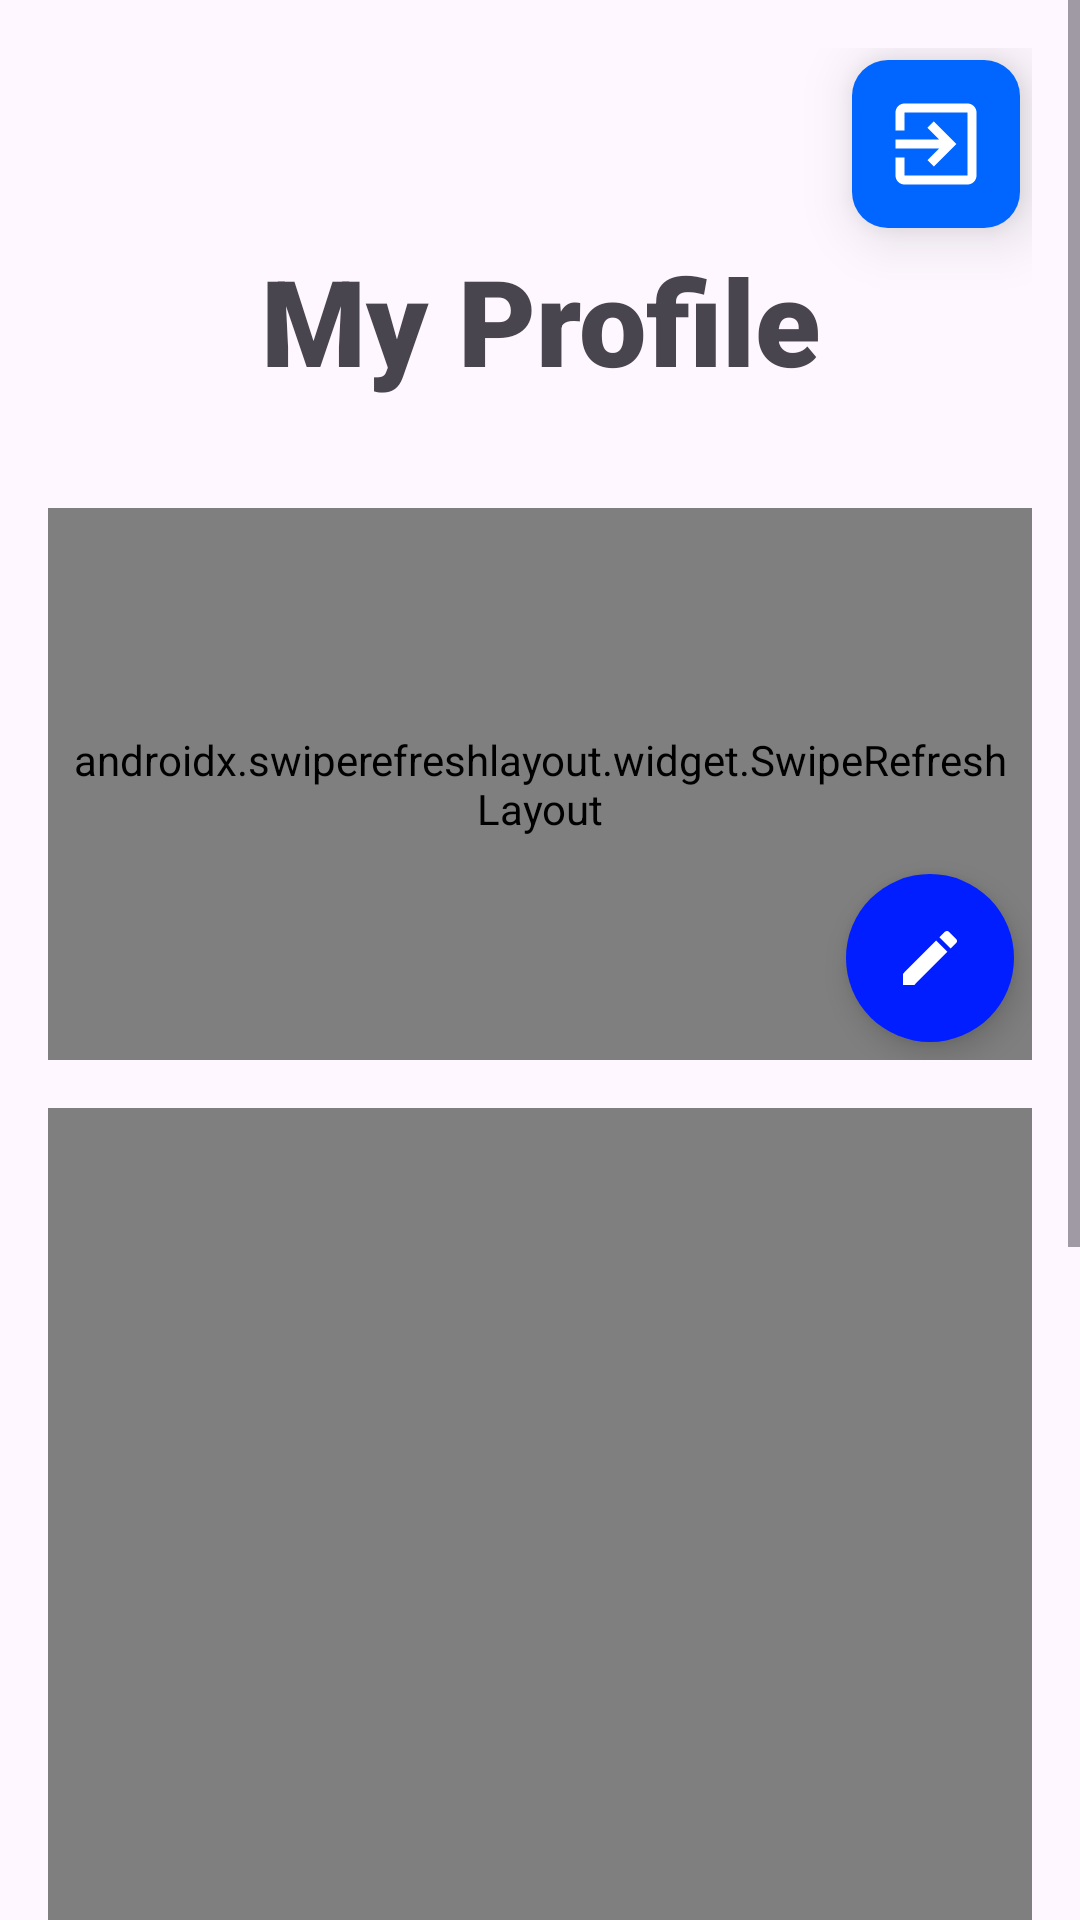

Screen size 1080px x 1920px. Icon name, then its center in pixels as (x=x, y=y):
create: (x=930, y=958)
exit to app: (x=936, y=144)
